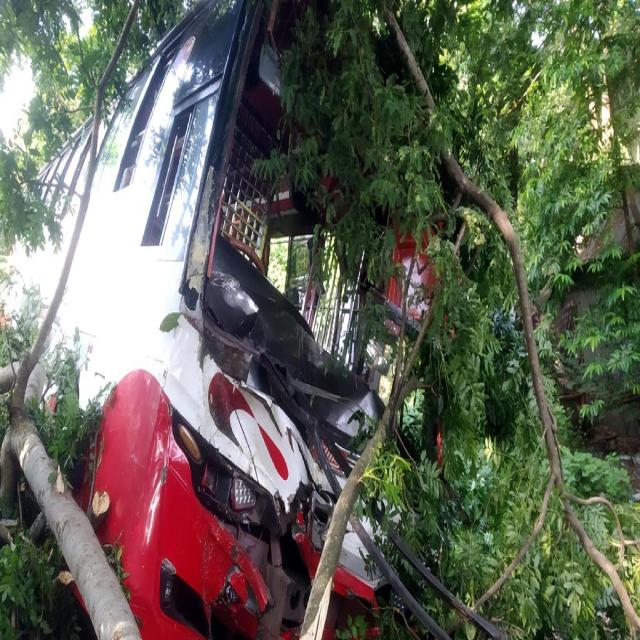Accident: (1, 0, 488, 640)
